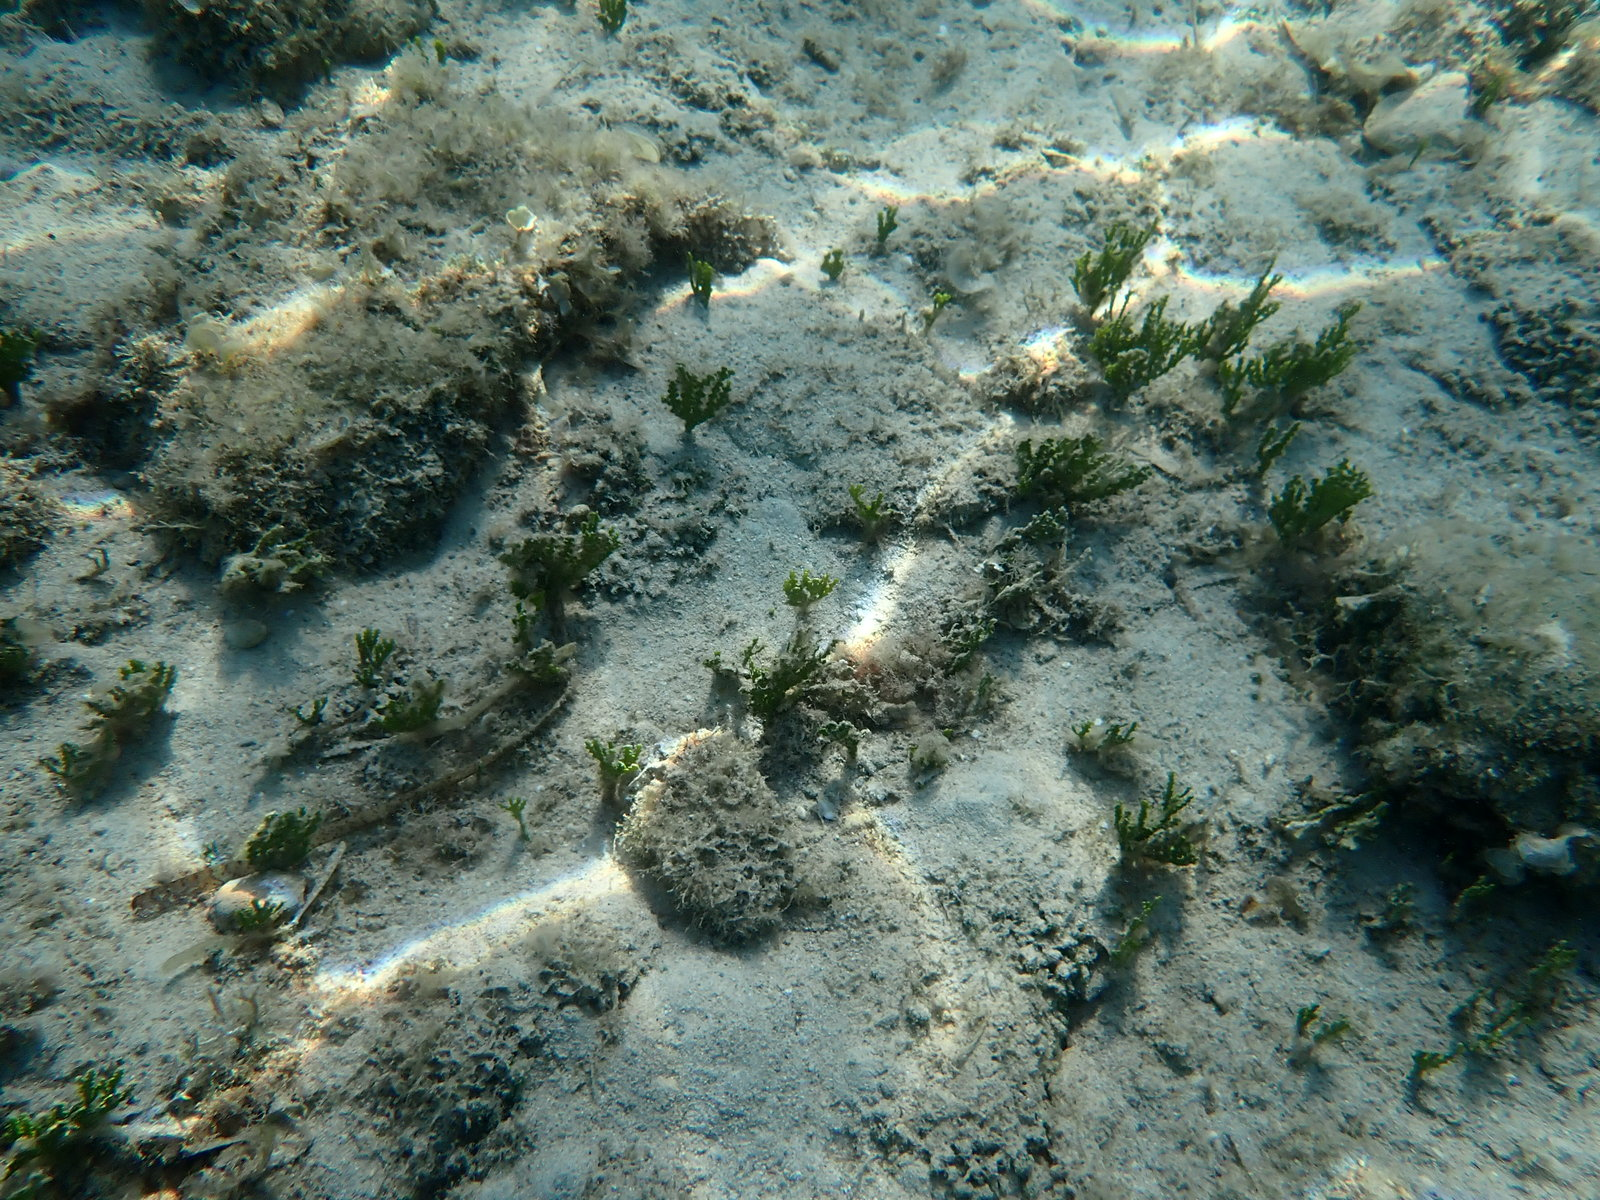halimeda: (510, 511, 619, 614), (1246, 305, 1354, 395), (1066, 212, 1162, 313), (1014, 435, 1151, 502), (1267, 456, 1374, 537), (1112, 769, 1196, 867), (1214, 253, 1290, 361), (82, 658, 183, 720), (661, 362, 731, 439), (1145, 303, 1206, 376), (252, 807, 326, 860), (1117, 887, 1165, 962), (777, 626, 842, 679), (76, 1059, 136, 1113), (587, 736, 645, 788), (1070, 711, 1139, 754), (4, 1103, 84, 1138), (1107, 349, 1151, 408), (1086, 314, 1139, 361), (1533, 940, 1574, 1001), (780, 567, 842, 606), (511, 645, 566, 683), (849, 479, 889, 529), (358, 628, 399, 671), (238, 897, 289, 933), (682, 253, 714, 308), (1217, 355, 1247, 413), (1261, 421, 1300, 465), (37, 742, 77, 784), (1026, 507, 1073, 539), (1415, 1044, 1451, 1084), (874, 205, 900, 248), (290, 696, 328, 724), (926, 290, 947, 328), (501, 795, 529, 824), (821, 248, 845, 279), (1300, 998, 1317, 1037), (976, 671, 993, 708), (1323, 1021, 1348, 1045), (743, 637, 765, 664), (93, 545, 108, 575)
